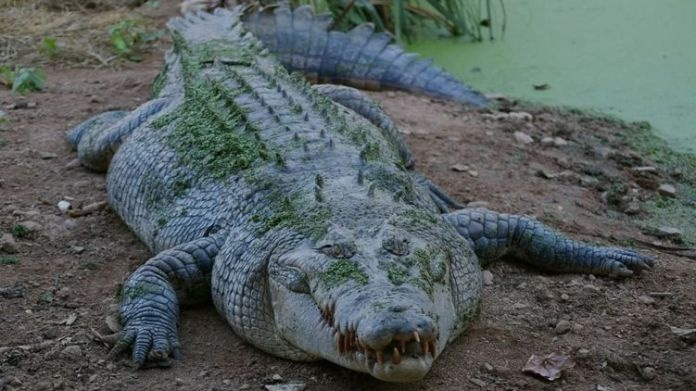crocodile: (62, 3, 658, 385)
